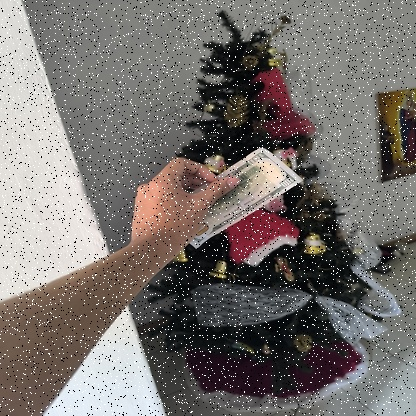one_hundred-back: (160, 148, 307, 249)
